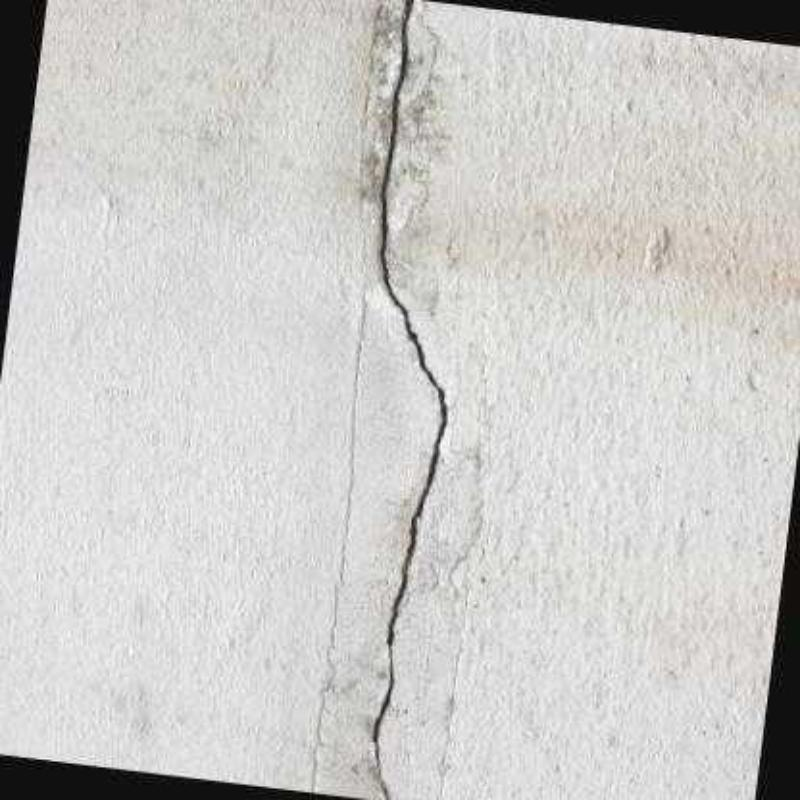crack: (368, 0, 447, 796), (308, 285, 365, 794), (356, 0, 387, 227), (438, 585, 471, 798), (410, 0, 440, 156), (446, 552, 473, 617)
